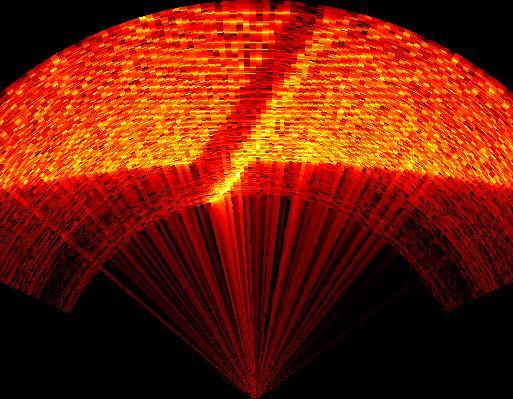pipe: (187, 8, 349, 203)
